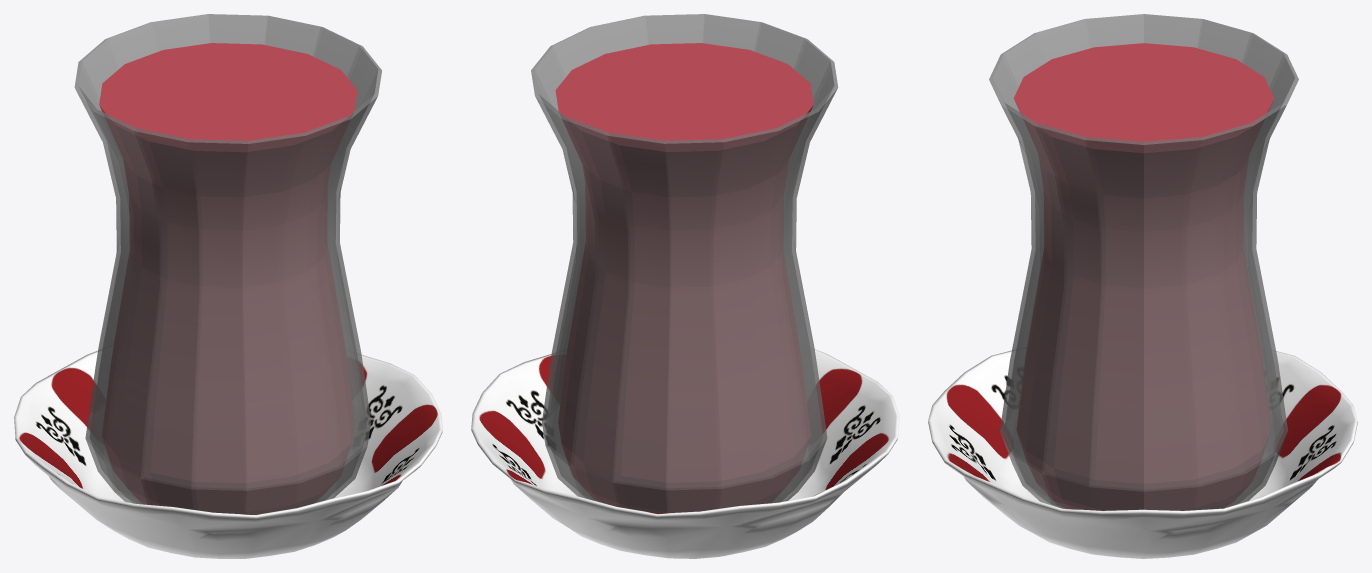
The model's file is Oralets(strawberry).fbx.
3 views of the same model, side by side, from view 1: azimuth 30°, elevation 25°; view 2: azimuth 150°, elevation 25°; view 3: azimuth 270°, elevation 25° (orthographic).
Visible parts, largest first — view 1: TeaGlass, Strawberry, TeaGlassCoater; view 2: TeaGlass, Strawberry, TeaGlassCoater; view 3: TeaGlass, Strawberry, TeaGlassCoater.
Part boxes in pixels (x1,y1,x2,y2): TeaGlass: [74, 14, 381, 514]; Strawberry: [99, 43, 357, 514]; TeaGlassCoater: [14, 349, 442, 558]; TeaGlass: [531, 14, 838, 513]; Strawberry: [555, 43, 813, 513]; TeaGlassCoater: [471, 348, 899, 558]; TeaGlass: [989, 14, 1298, 510]; Strawberry: [1013, 43, 1273, 510]; TeaGlassCoater: [928, 350, 1357, 558].
Size of the model in its own units: 51.36 by 56.79 by 51.36.
Materials: 3 (1 with a texture image).
